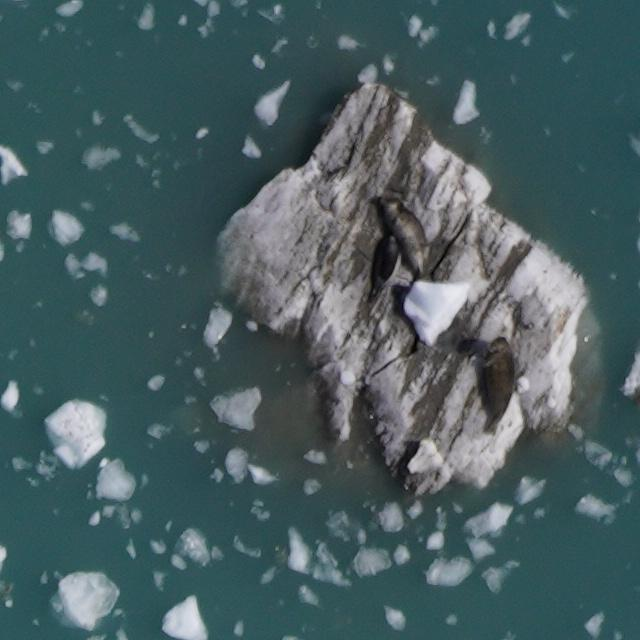seal: (375, 187, 439, 284), (476, 335, 521, 437), (364, 230, 404, 305)
